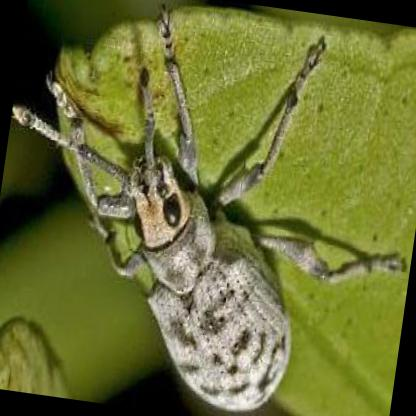ash weevil: (44, 15, 396, 416)
